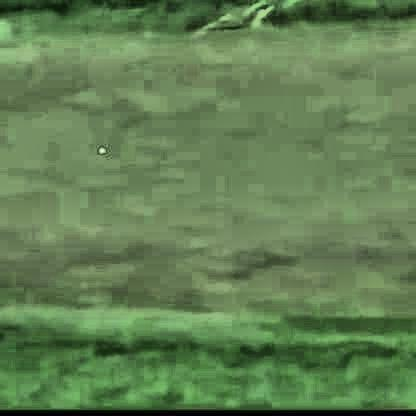golfball: (93, 144, 104, 154)
